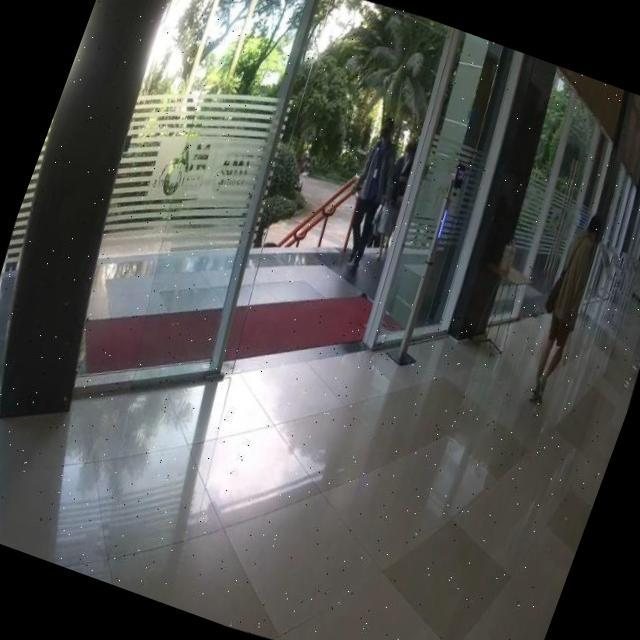person: (510, 206, 620, 414), (327, 120, 414, 278), (359, 140, 426, 265)
